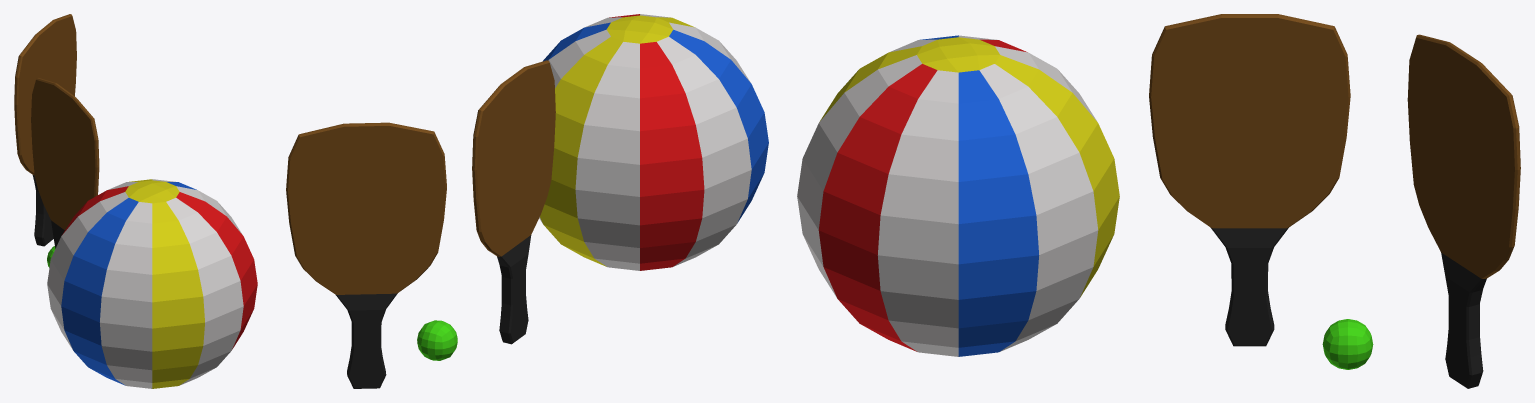
File: uploads_files_1989578_BeachItemsFXB.fbx
3 views of the same model, side by side, from view 1: azimuth 30°, elevation 25°; view 2: azimuth 150°, elevation 25°; view 3: azimuth 270°, elevation 25° (orthographic). The views are drawn at different scales.
Parts seen in each view (by area): view 1: BeachBall, Racket, Racket2; view 2: BeachBall, Racket2, Racket, RacketBall; view 3: BeachBall, Racket, Racket2, RacketBall.
Boxes of the visible parts, x1,y1,x2,y2 form: BeachBall: [47, 179, 257, 388]; Racket: [31, 78, 99, 248]; Racket2: [14, 14, 76, 246]; BeachBall: [539, 14, 768, 270]; Racket2: [286, 122, 446, 388]; Racket: [472, 60, 555, 344]; RacketBall: [417, 320, 457, 360]; BeachBall: [797, 35, 1119, 356]; Racket: [1149, 14, 1350, 346]; Racket2: [1407, 34, 1520, 388]; RacketBall: [1322, 319, 1373, 369].
Bounding box in the file's own units: 74 × 77.75 × 153.
